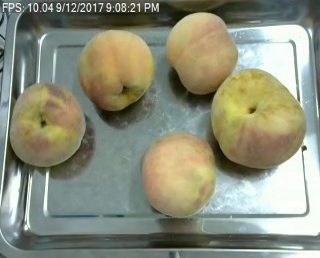Peach: (210, 69, 305, 169), (8, 80, 85, 167), (141, 131, 218, 217), (78, 27, 153, 110), (166, 11, 238, 94)
